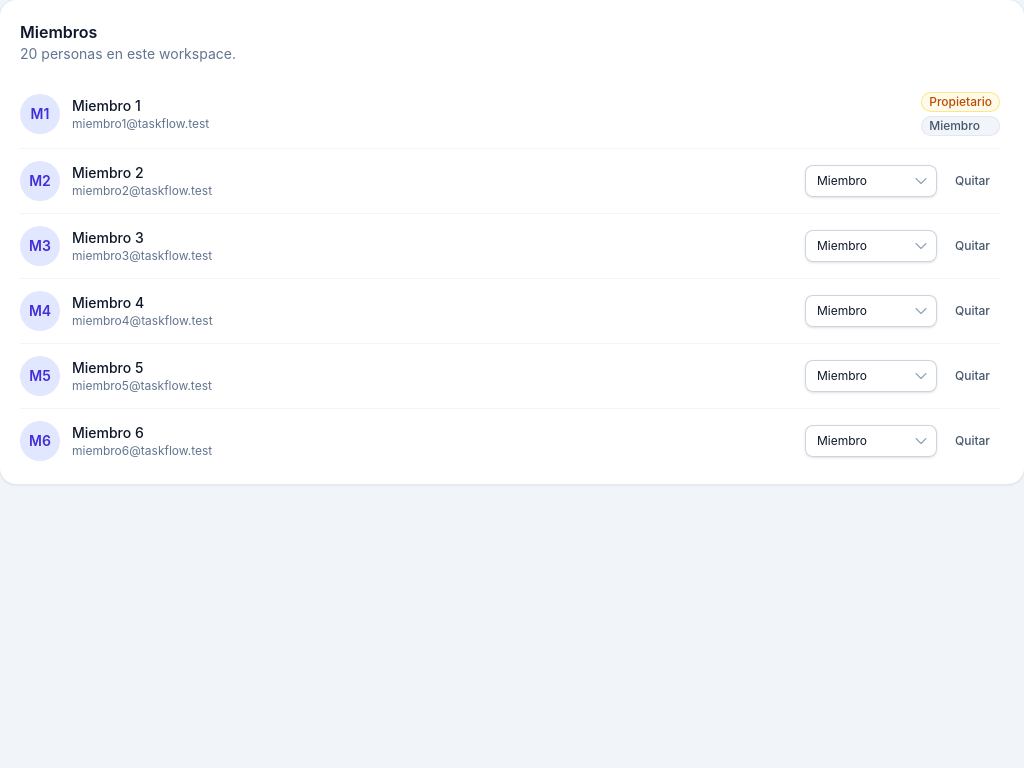
Test case: MembersPanel › removes a member and reassigns their tasks to another member
This screenshot has width=1024, height=768.
Click the button "Quitar" in the row of "M2". click: (972,181)
box: [945, 167, 1000, 195]
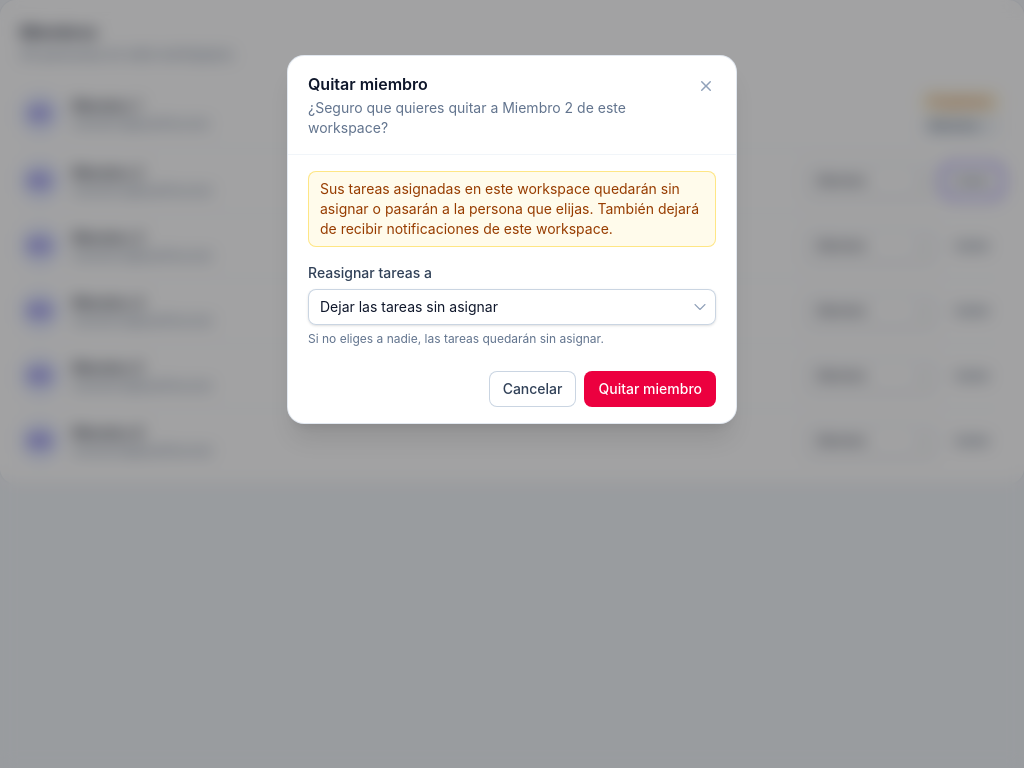
Select "Miembro 3 (Miembro)" in the dropdown labelled "Reasignar tareas a". click: (512,307)
box: [308, 289, 716, 325]
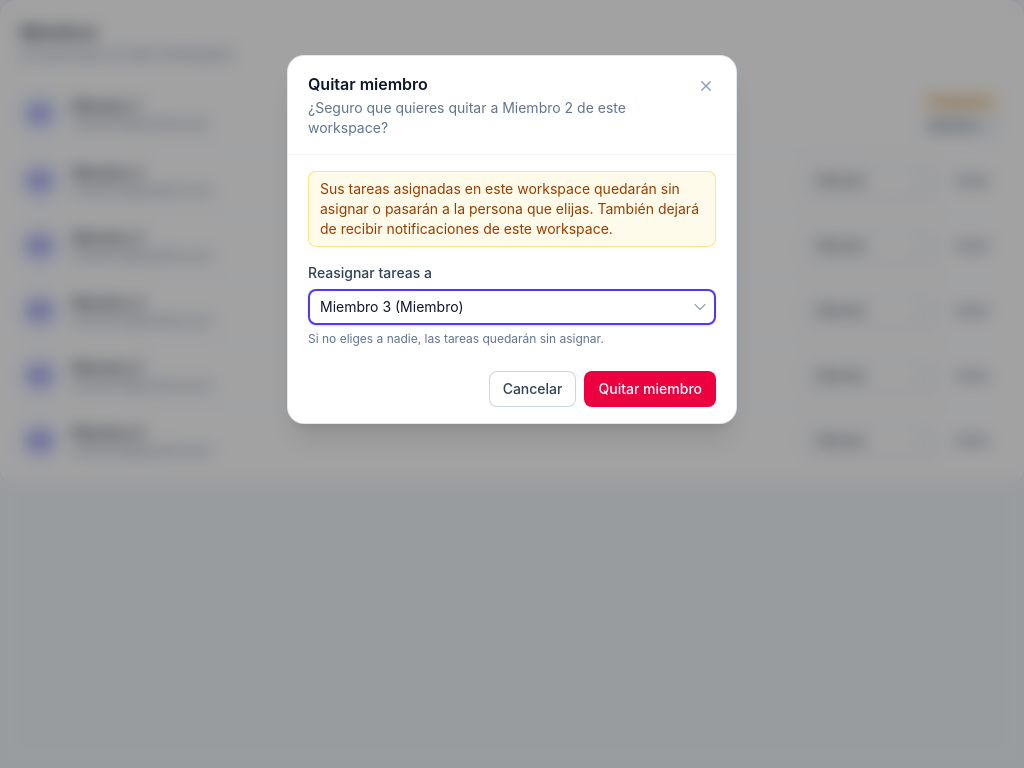
Click the button "Quitar miembro". click: (650,389)
box: [584, 371, 716, 407]
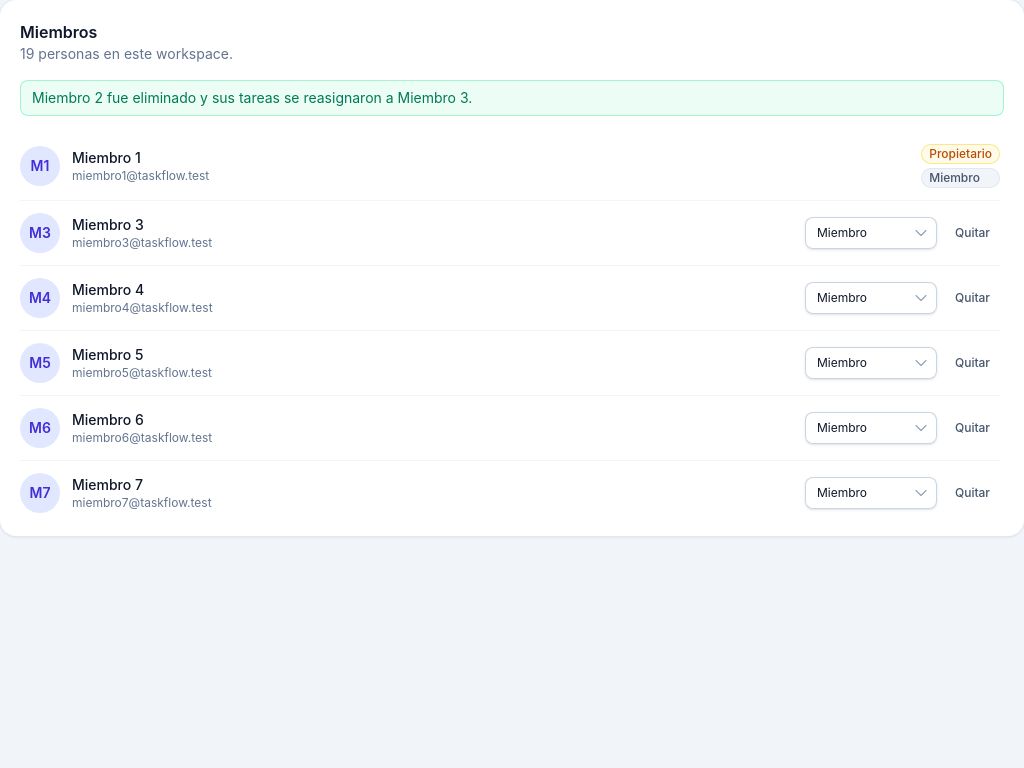
Expected: the text "Miembro 2 fue eliminado y sus tareas se reasignaron a Miembro 3." is shown, [20, 80, 1004, 116]
